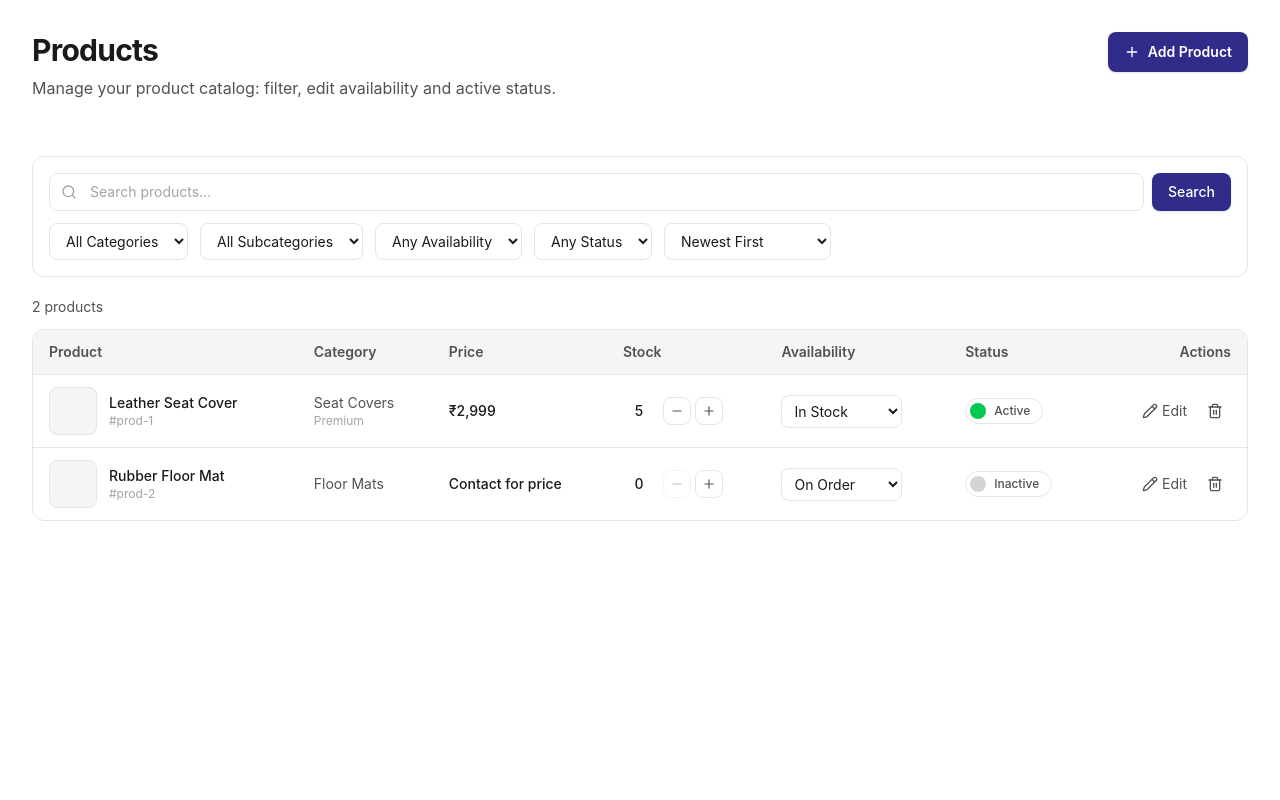
Scenario: ProductsAdminPage › surfaces an error when a stock adjustment fails
Expected: the text "Leather Seat Cover" is shown, [109, 393, 238, 413]
Click the button named "Decrease stock for Leather Seat Cover" at (677, 411), box [663, 397, 691, 425]
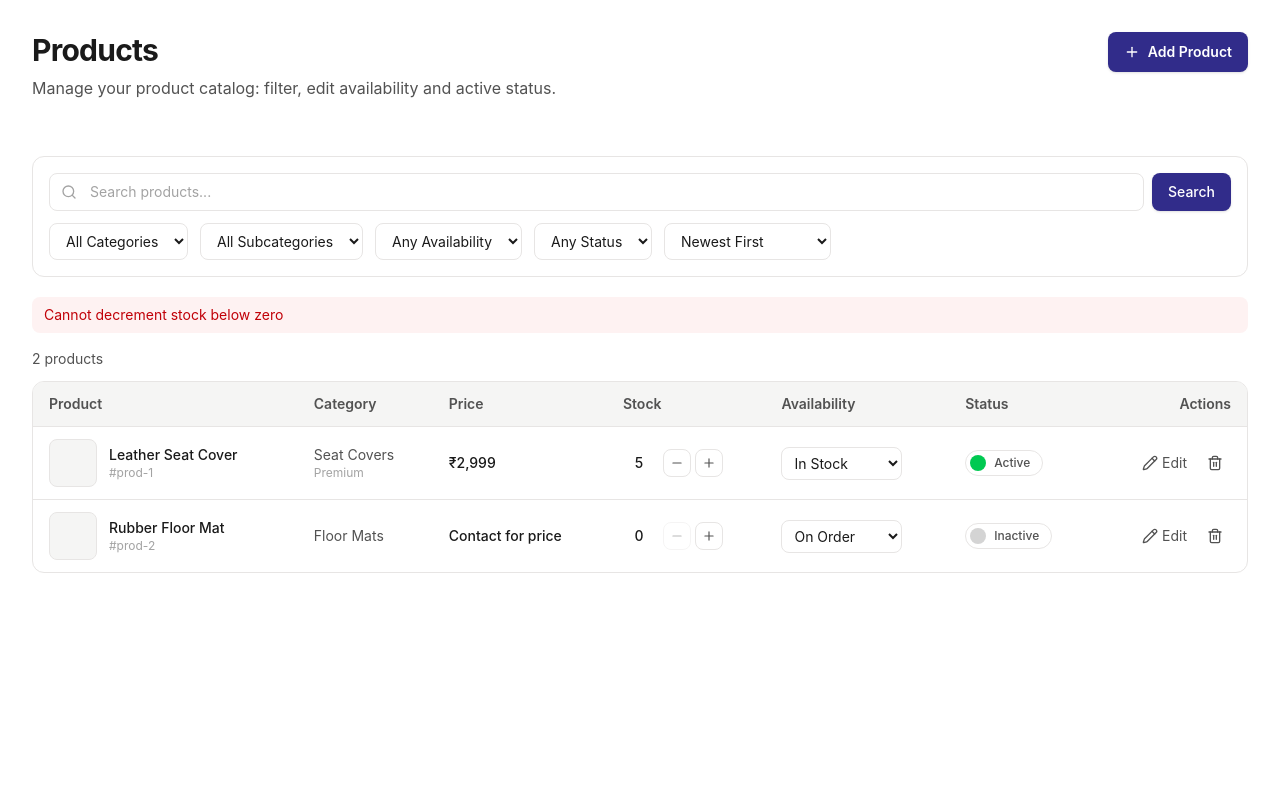
Expected: the text named "Stock quantity for Leather Seat Cover" reads "5", [634, 454, 644, 471]
Result: the message reads "Cannot decrement stock below zero" at [44, 306, 283, 323]
